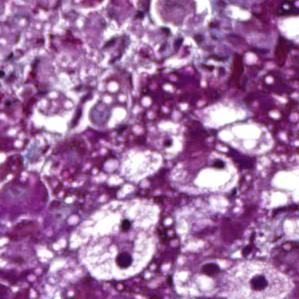ballooning: (71, 196, 163, 282), (173, 239, 239, 299), (166, 146, 242, 198), (219, 258, 296, 299), (215, 117, 278, 161)
